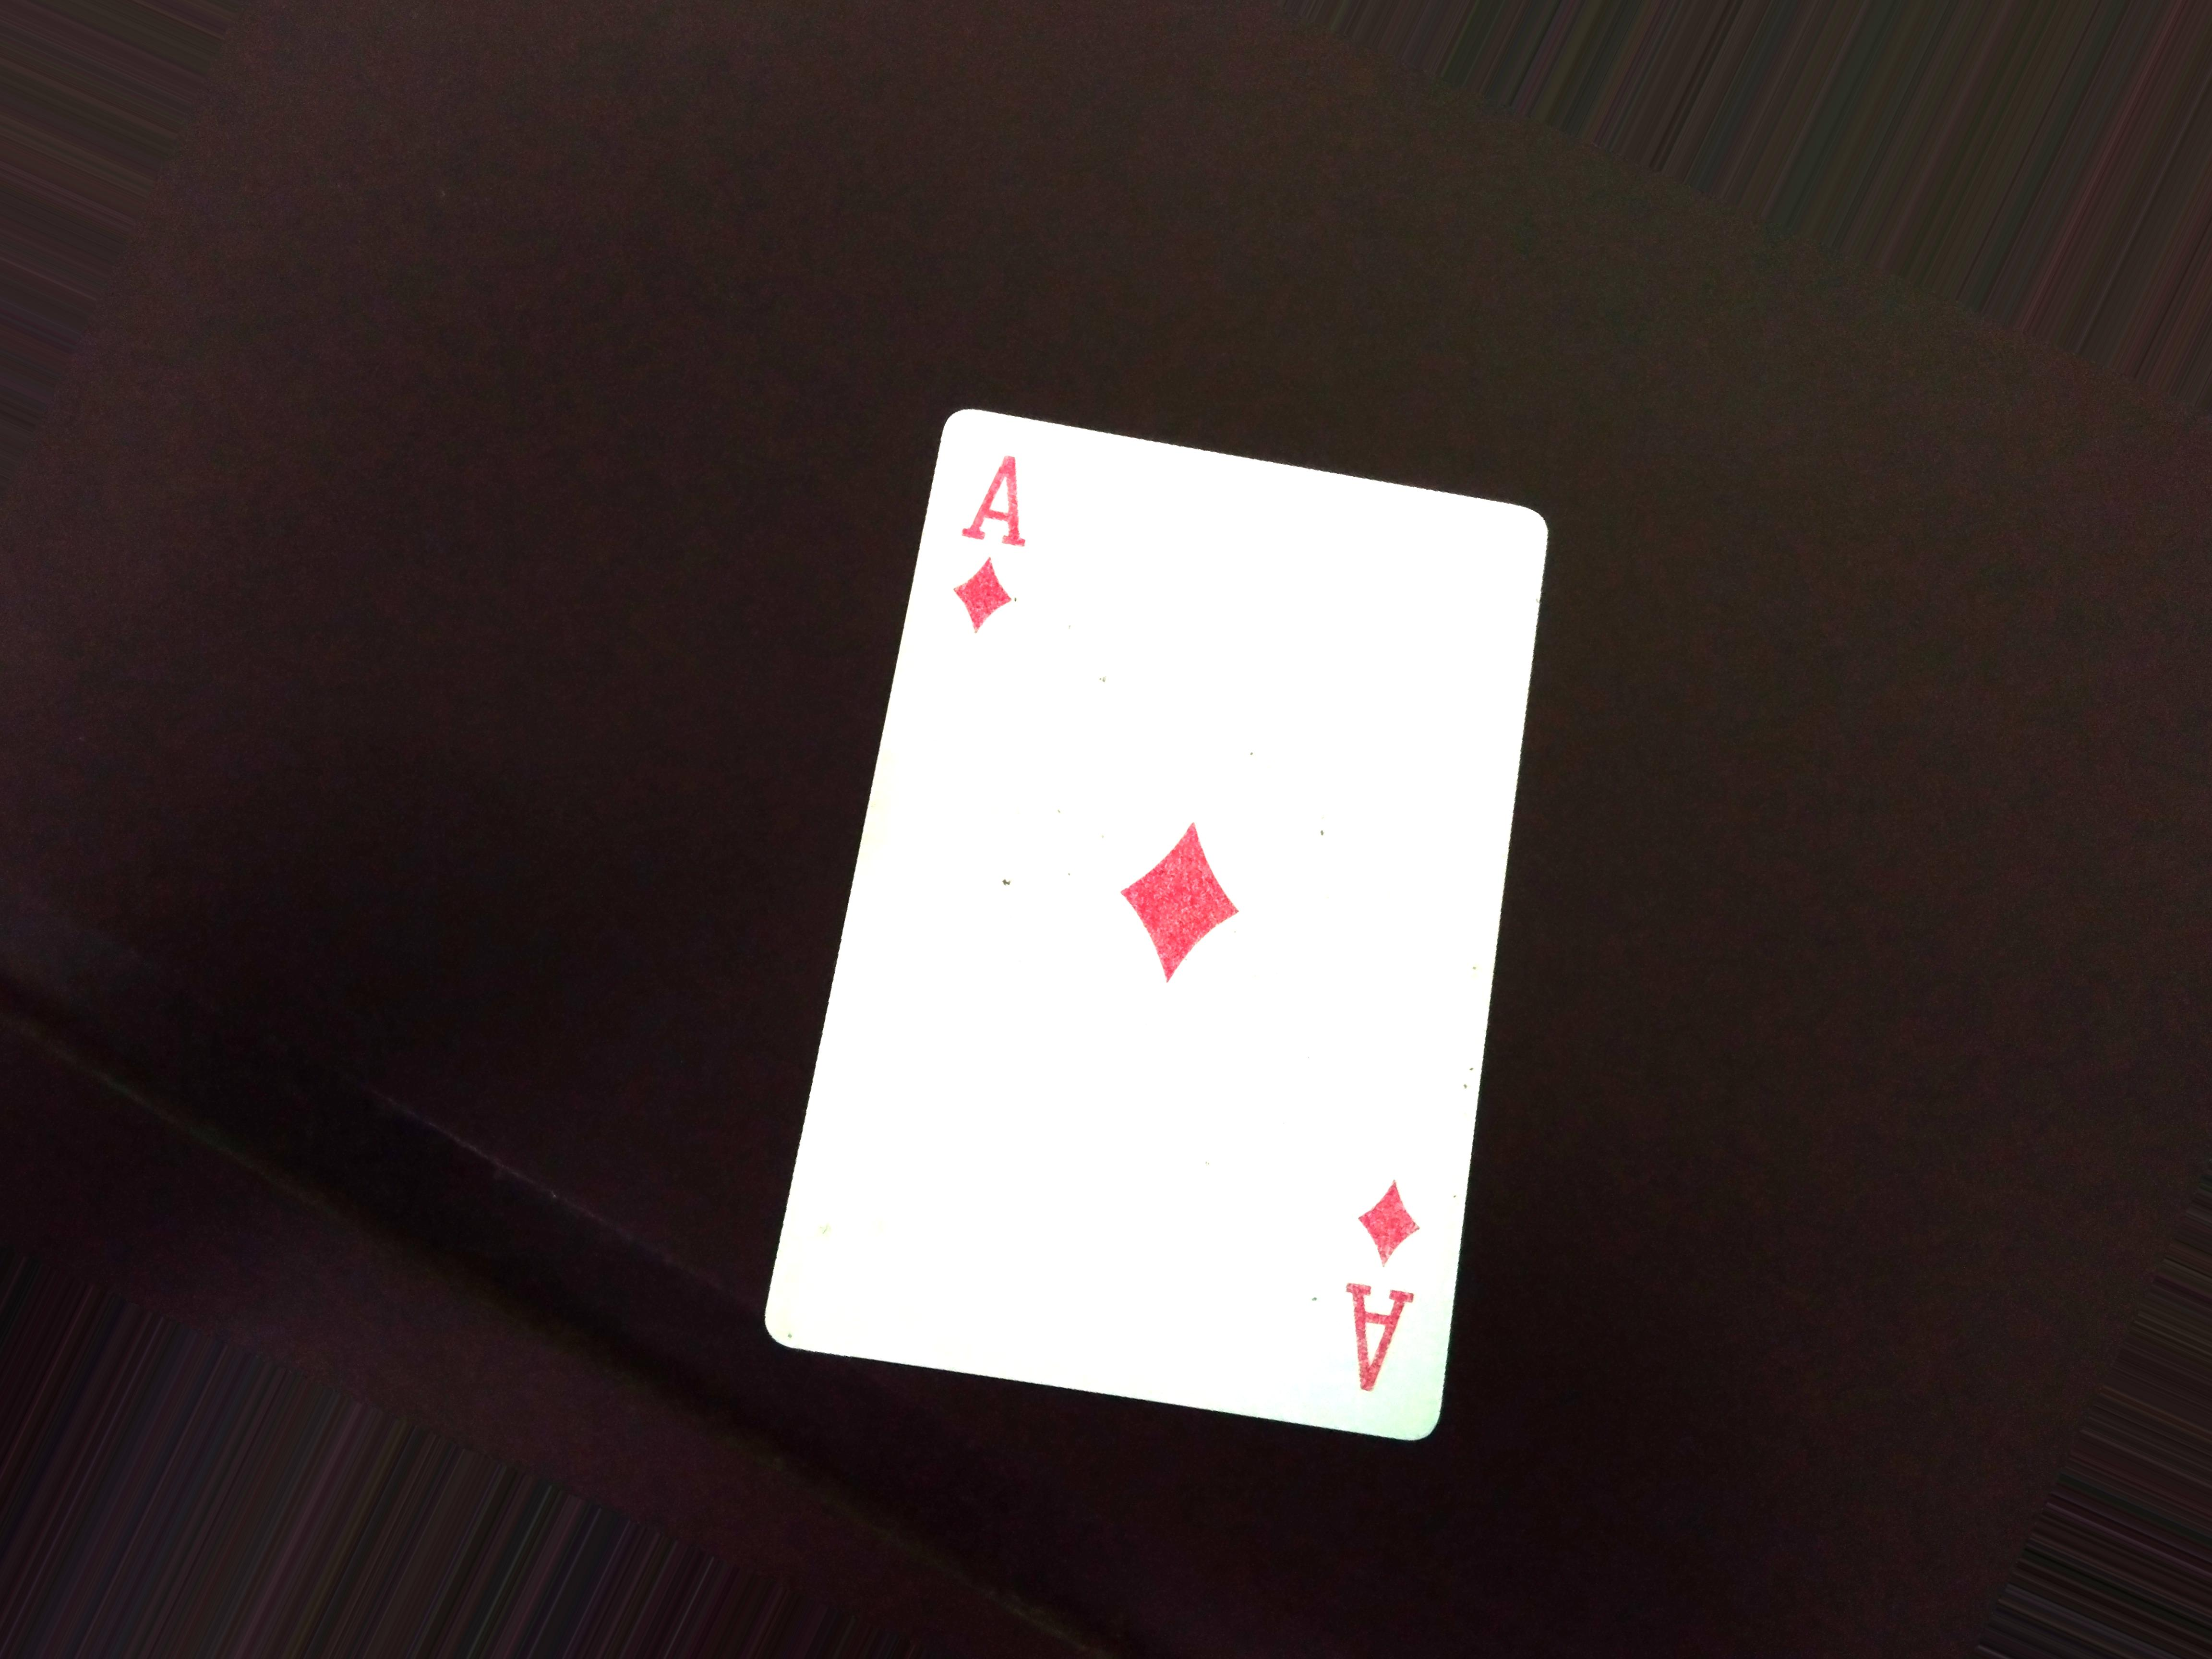AD: (928, 429, 1045, 641)
